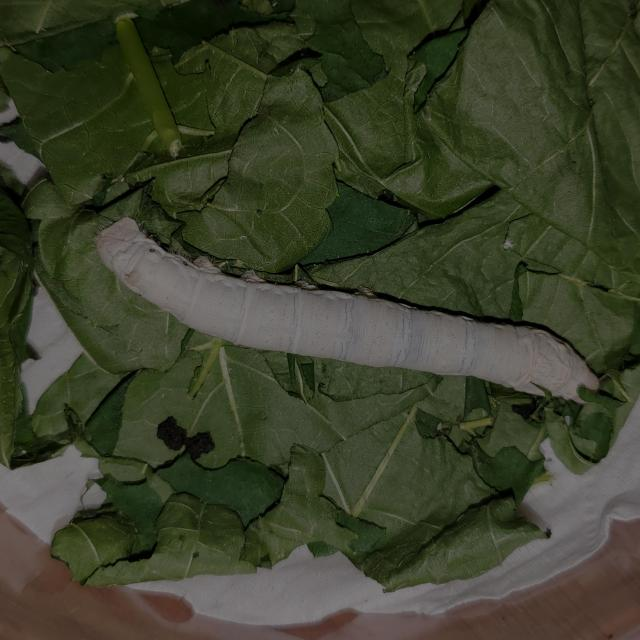Healthy: (66, 170, 621, 463)
